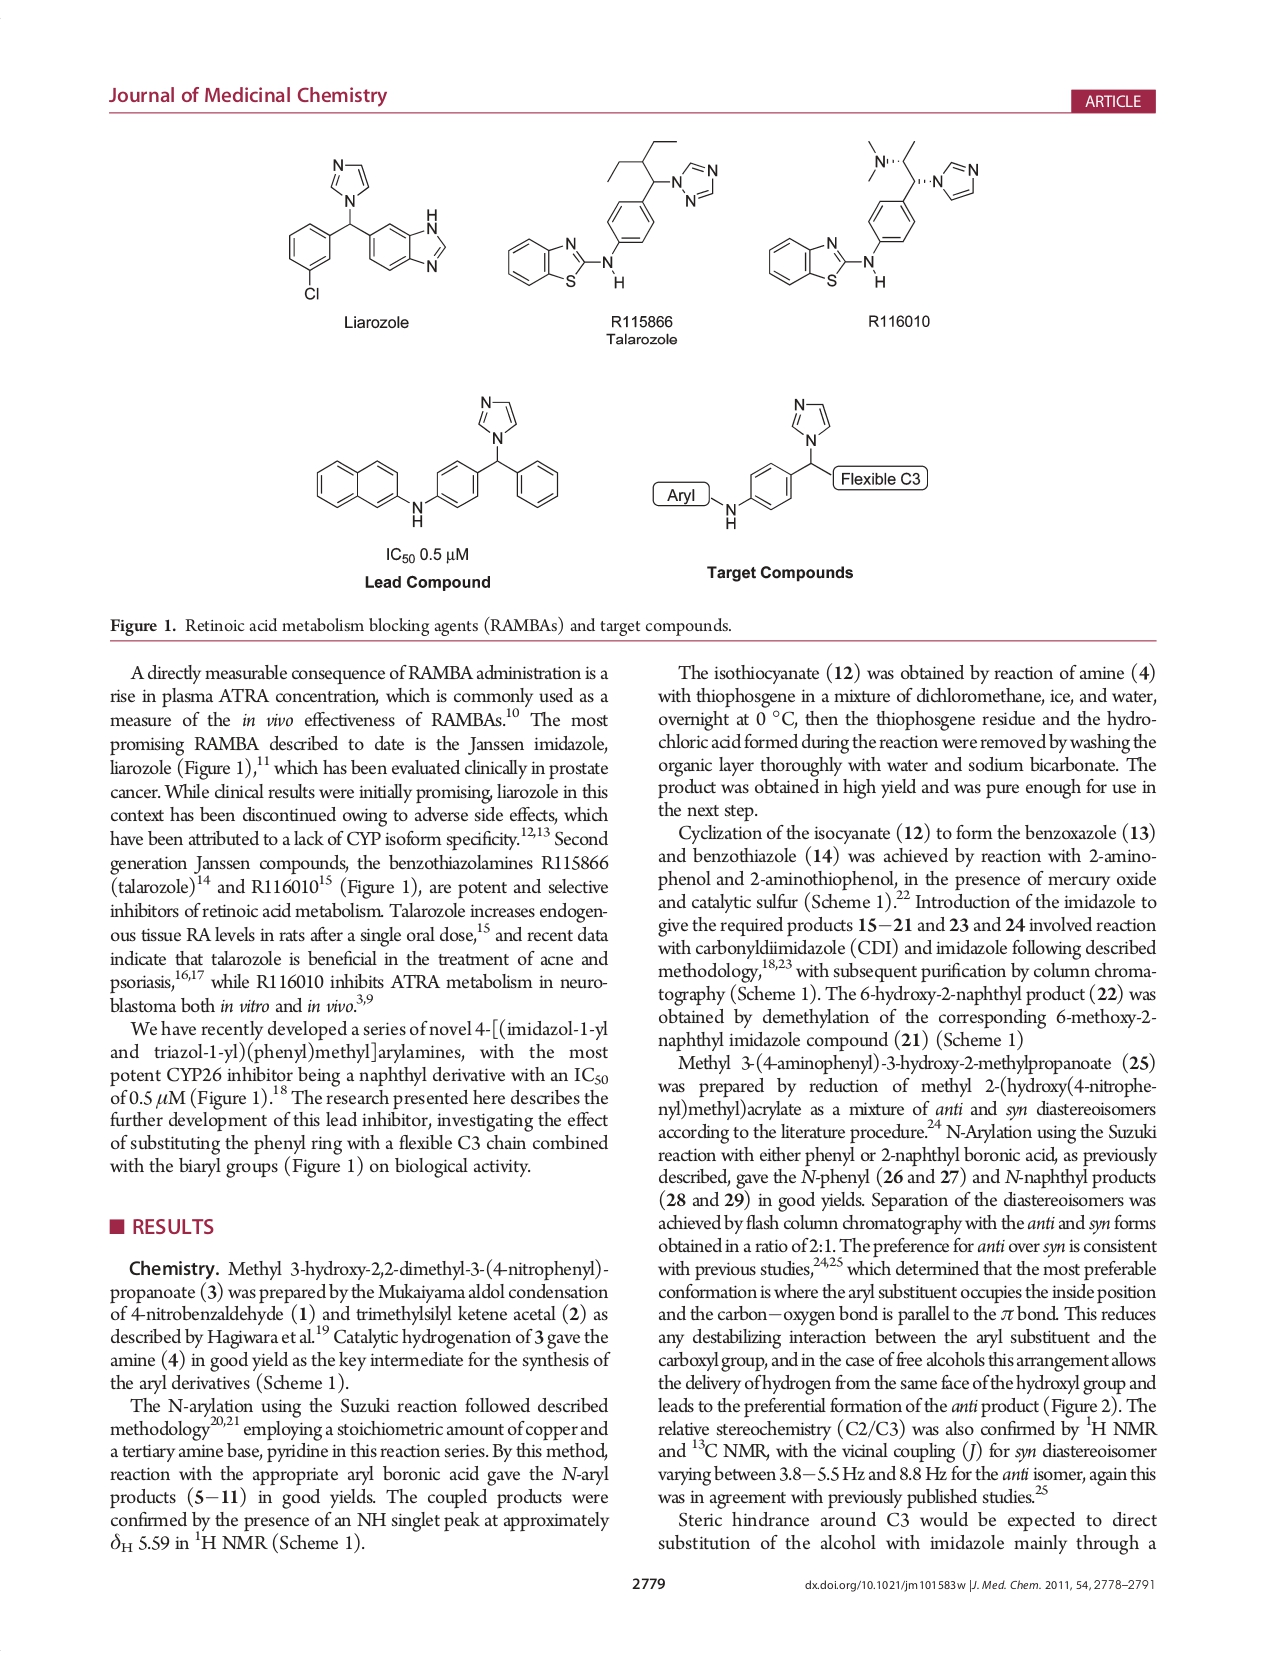exist_molecular: (646, 398, 934, 531), (306, 394, 565, 533), (763, 133, 979, 297), (501, 136, 719, 297), (285, 156, 449, 305)
